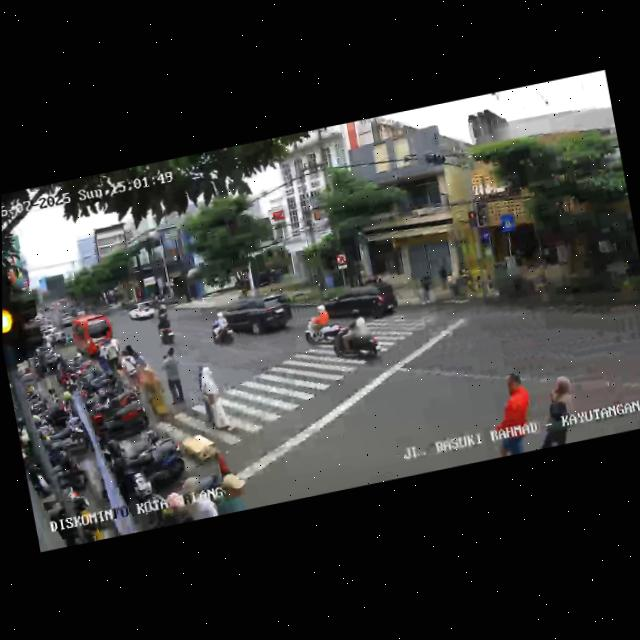car: (218, 293, 293, 345), (324, 278, 398, 328), (69, 310, 117, 359), (126, 296, 160, 325)
motorcycle: (326, 302, 388, 372), (299, 301, 343, 349), (207, 307, 236, 348), (618, 244, 640, 287), (154, 309, 177, 347)
person: (487, 371, 537, 457), (535, 376, 580, 447), (158, 345, 190, 417), (193, 358, 224, 423), (135, 357, 165, 421)
